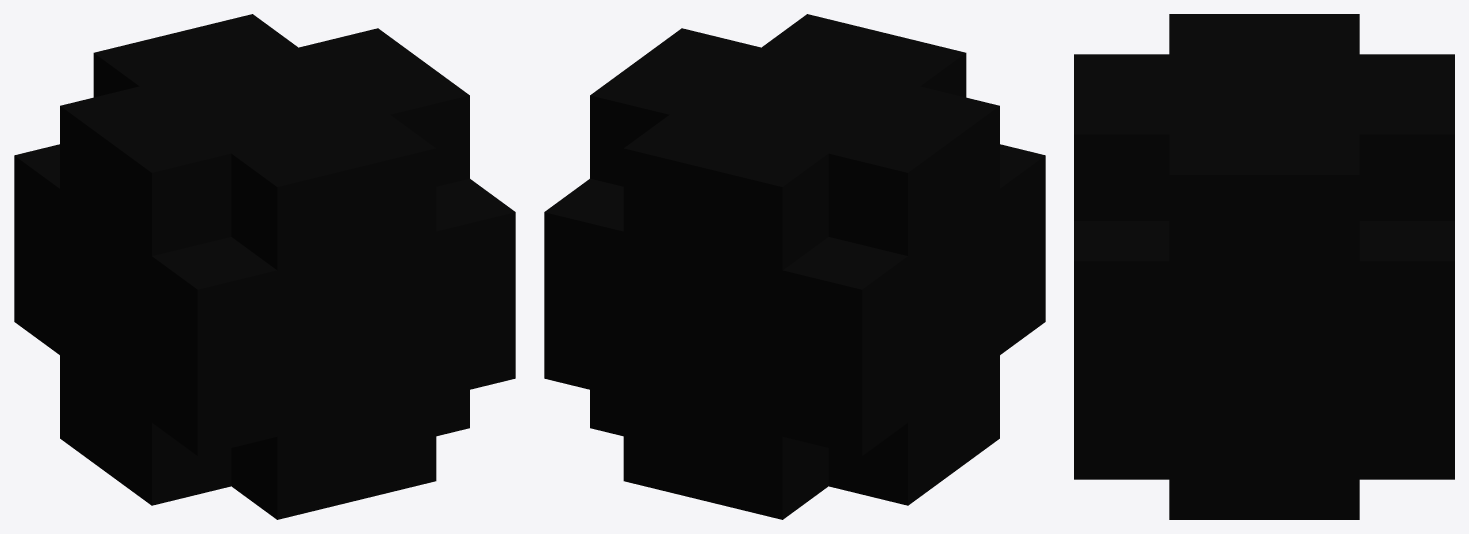
The model's file is Cannonball.obj.
3 renders of one model, left to right at view 1: azimuth 30°, elevation 25°; view 2: azimuth 150°, elevation 25°; view 3: azimuth 270°, elevation 25°, orthographic. The views are drawn at different scales.
Size of the model in its own units: 0.4 by 0.4 by 0.4.
Materials: 1 (1 with a texture image).
